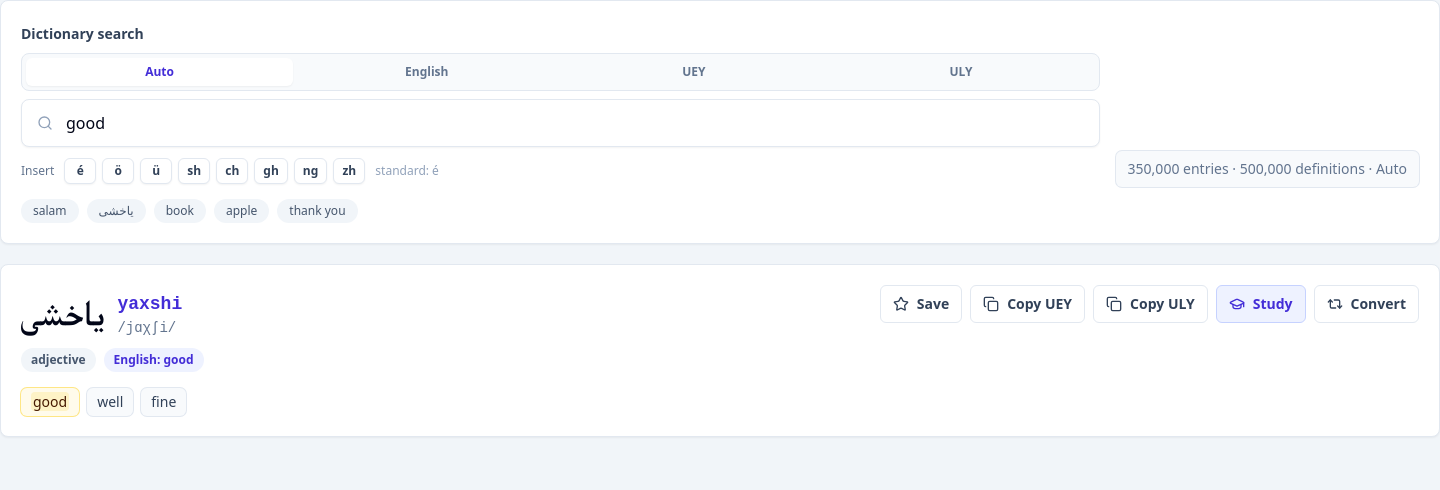
Test: DictionaryPanel › copies result headwords from the result card
Click the button "Copy ULY" at [1150, 304], box [1093,285,1208,323]
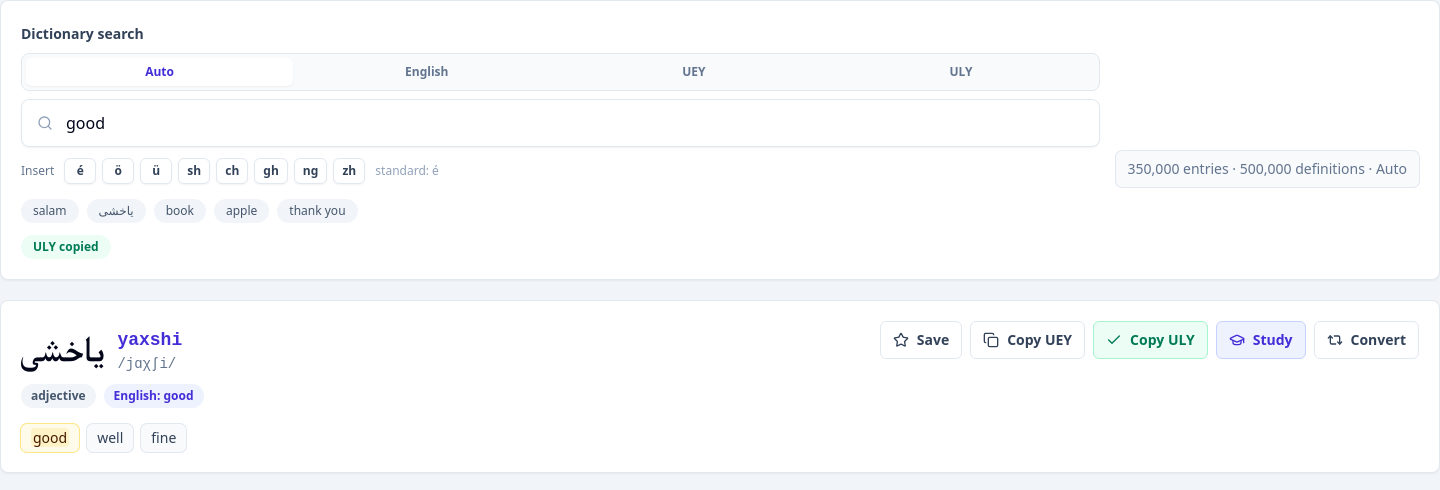
Now the text "ULY copied" is shown, box [21,235,111,259]
